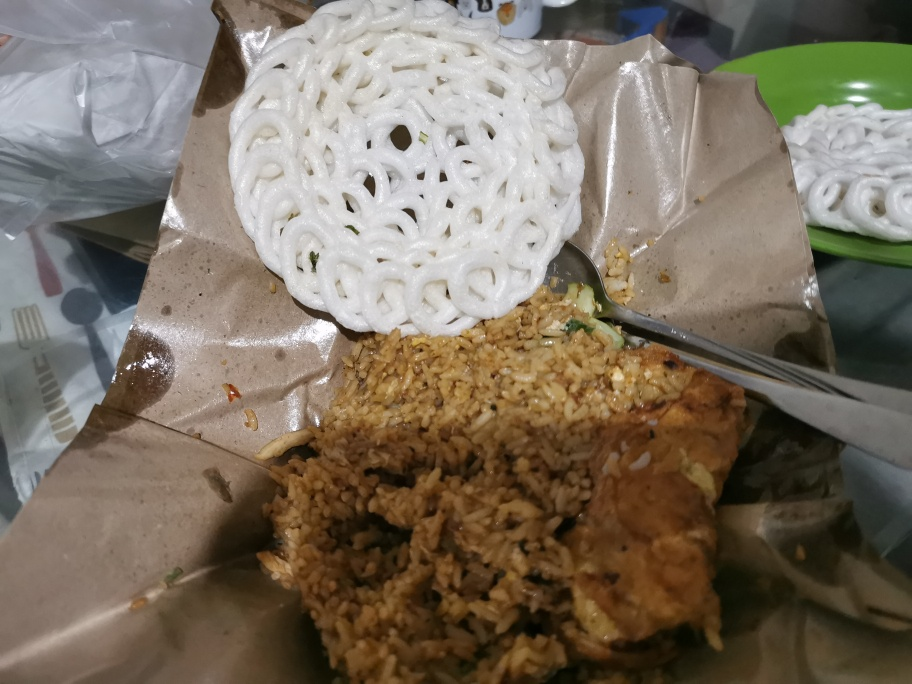kerupuk: (220, 1, 582, 331)
nasi goreng: (269, 329, 746, 684)
